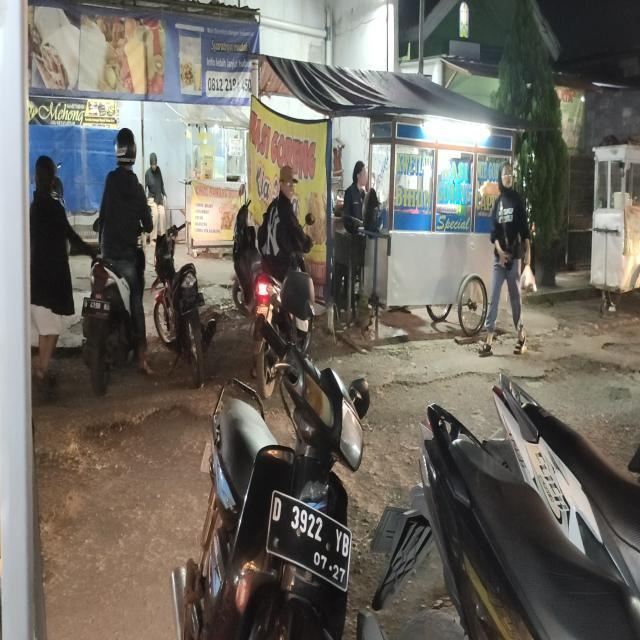helmet: (114, 126, 138, 166)
no-helmet: (280, 163, 297, 201)
